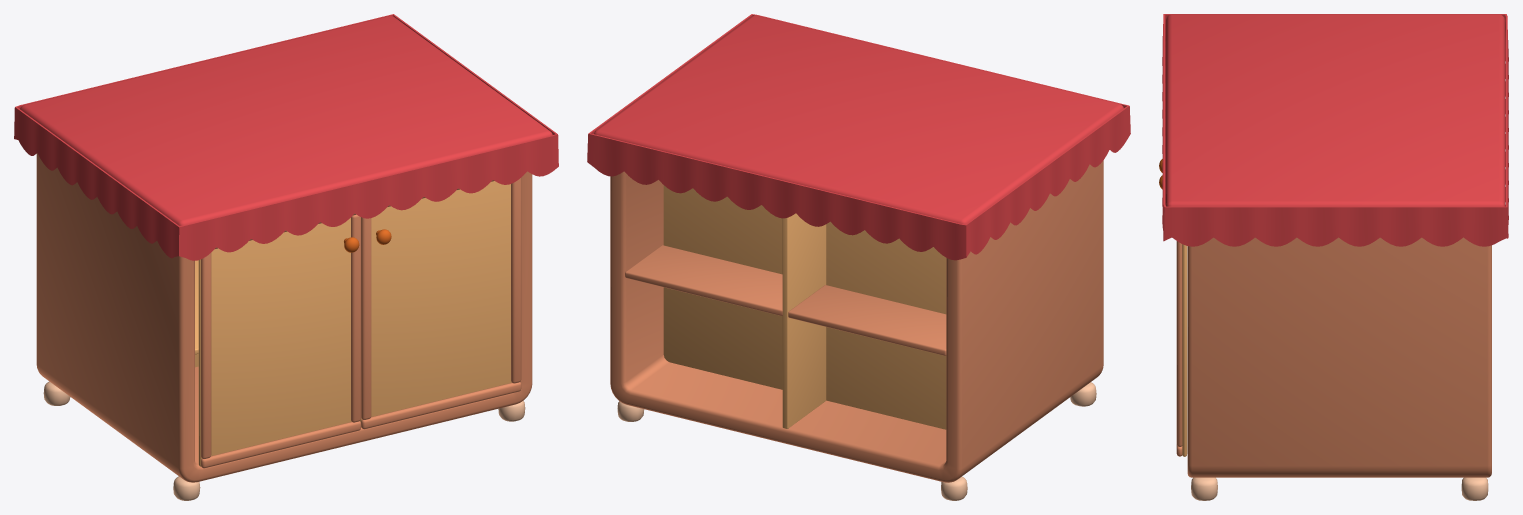
File: ilha_cozinha_campestre.glb
3 renders of one model, left to right at view 1: azimuth 30°, elevation 25°; view 2: azimuth 150°, elevation 25°; view 3: azimuth 270°, elevation 25°, orthographic. The views are drawn at different scales.
Parts seen in each view (by area): view 1: ilha_cozinha_campestre, porta_1, porta_2; view 2: ilha_cozinha_campestre; view 3: ilha_cozinha_campestre, porta_2.
Part boxes in pixels (x1,y1,x2,y2): ilha_cozinha_campestre: (14, 14, 558, 500); porta_1: (198, 213, 360, 468); porta_2: (360, 178, 521, 429); ilha_cozinha_campestre: (587, 14, 1130, 500); ilha_cozinha_campestre: (1162, 14, 1508, 500); porta_2: (1159, 175, 1187, 456).
Bounding box in the file's own units: 1.22 × 0.9 × 0.9286.
1 material, 1 textured.
